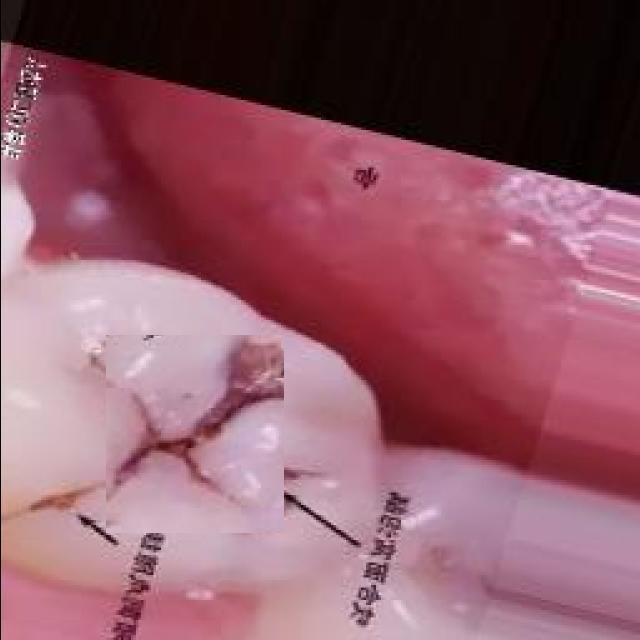caries: (105, 335, 283, 533), (35, 468, 85, 522)
